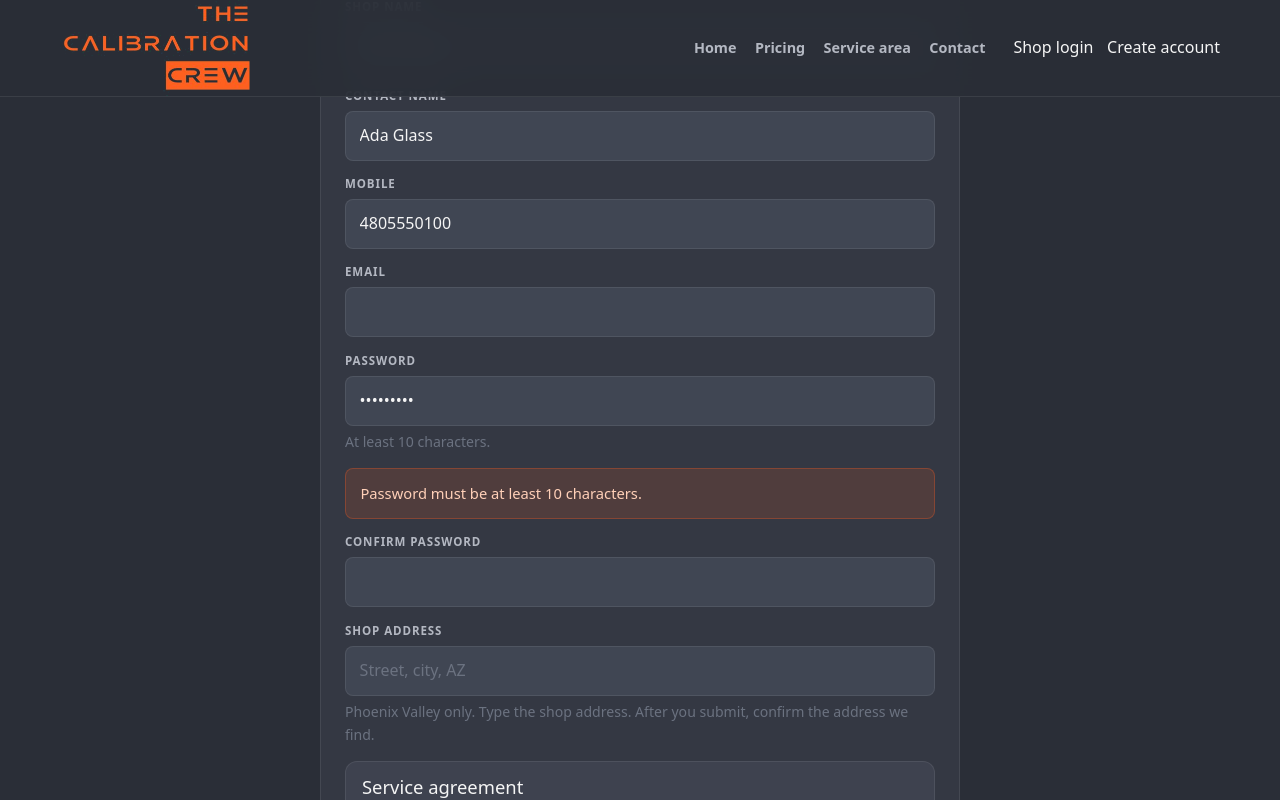
Test: shows the password rule and blocks submit until the password passes
Earlier steps of the test are not shown.
Later steps or results of the test are not shown.
(page scrolled)
Type "ada@jarvis.example" into the field with test id "signup-email" at (640, 312), box [345,287,935,337]
Type "shortpass" into the password field with test id "signup-confirm" at (640, 582), box [345,558,935,608]
Type "100 W Guadalupe Rd, Gilbert, AZ" into the field with test id "signup-address" at (640, 671), box [345,646,935,696]
(page scrolled)
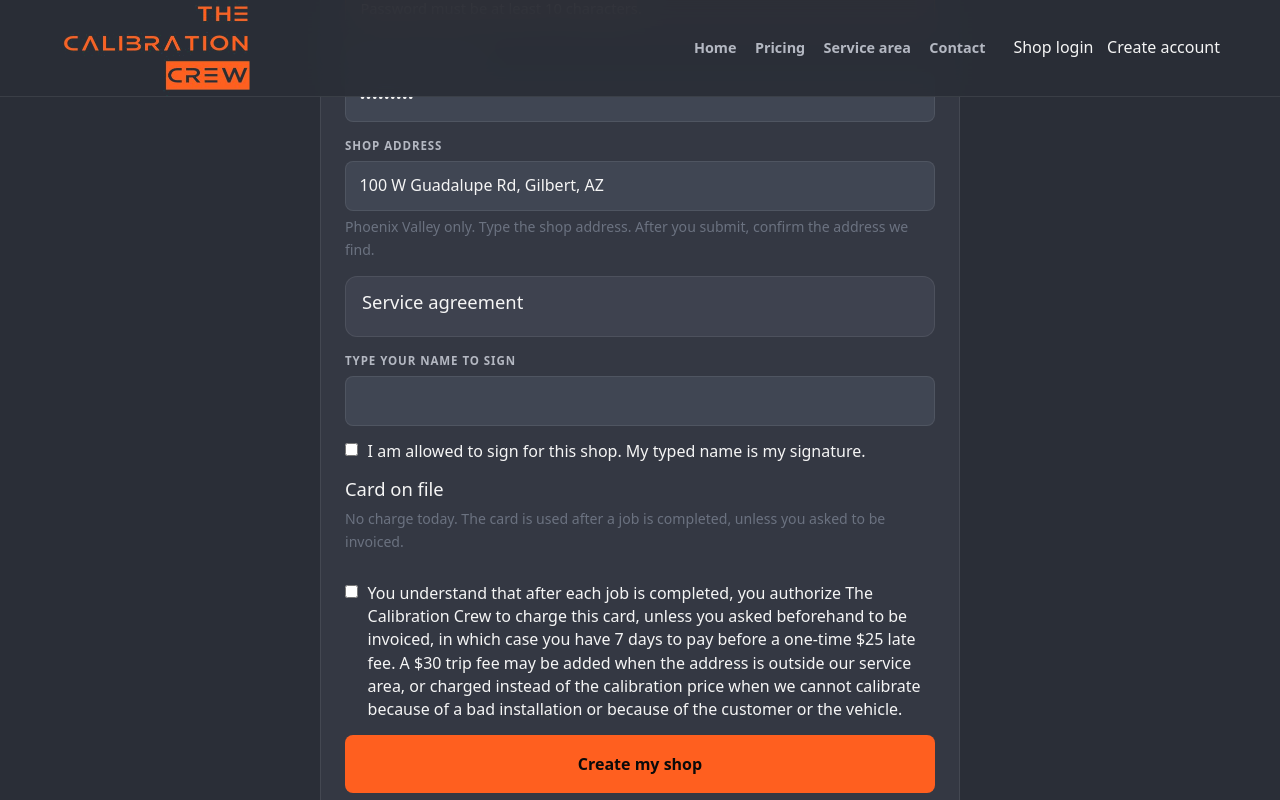
Type "Ada Glass" into the field with test id "signup-signature" at (640, 401), box [345,376,935,426]
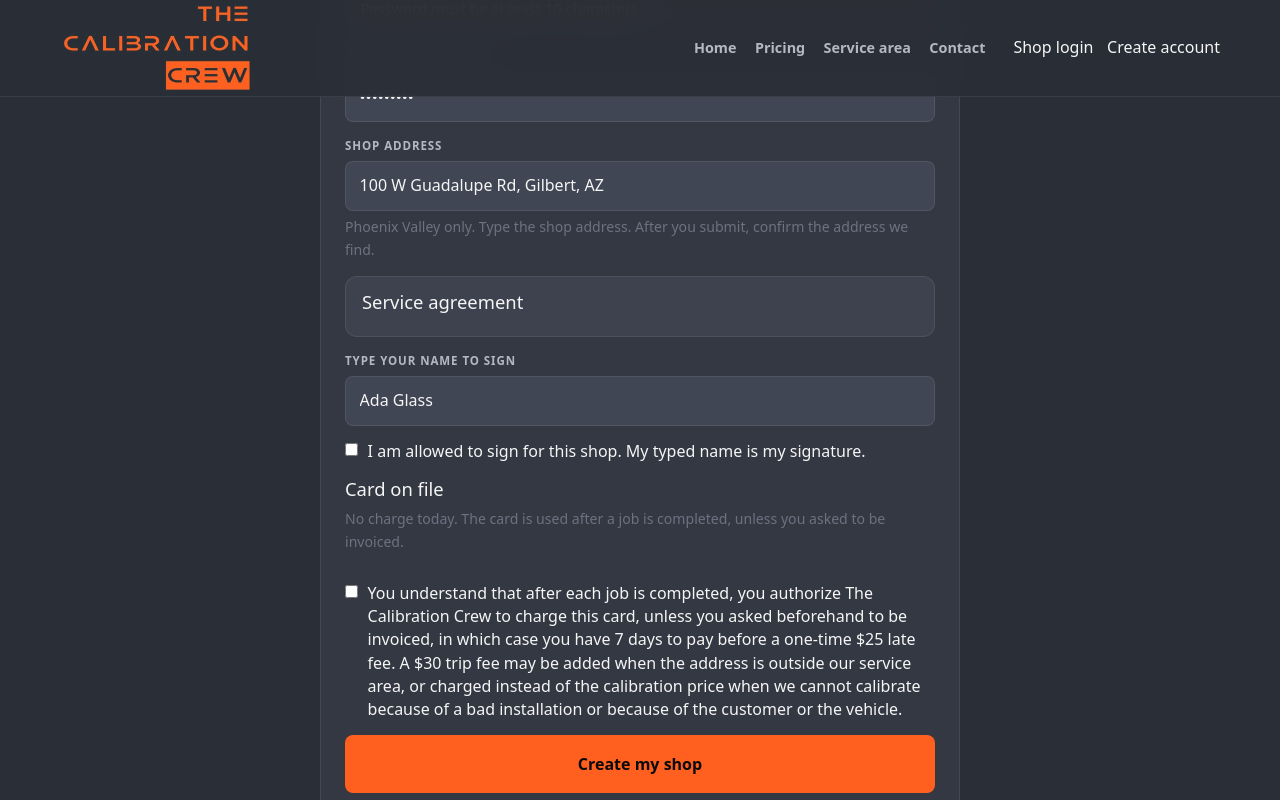
Click the checkbox with test id "signup-agree" at (352, 450), box [345,443,358,456]
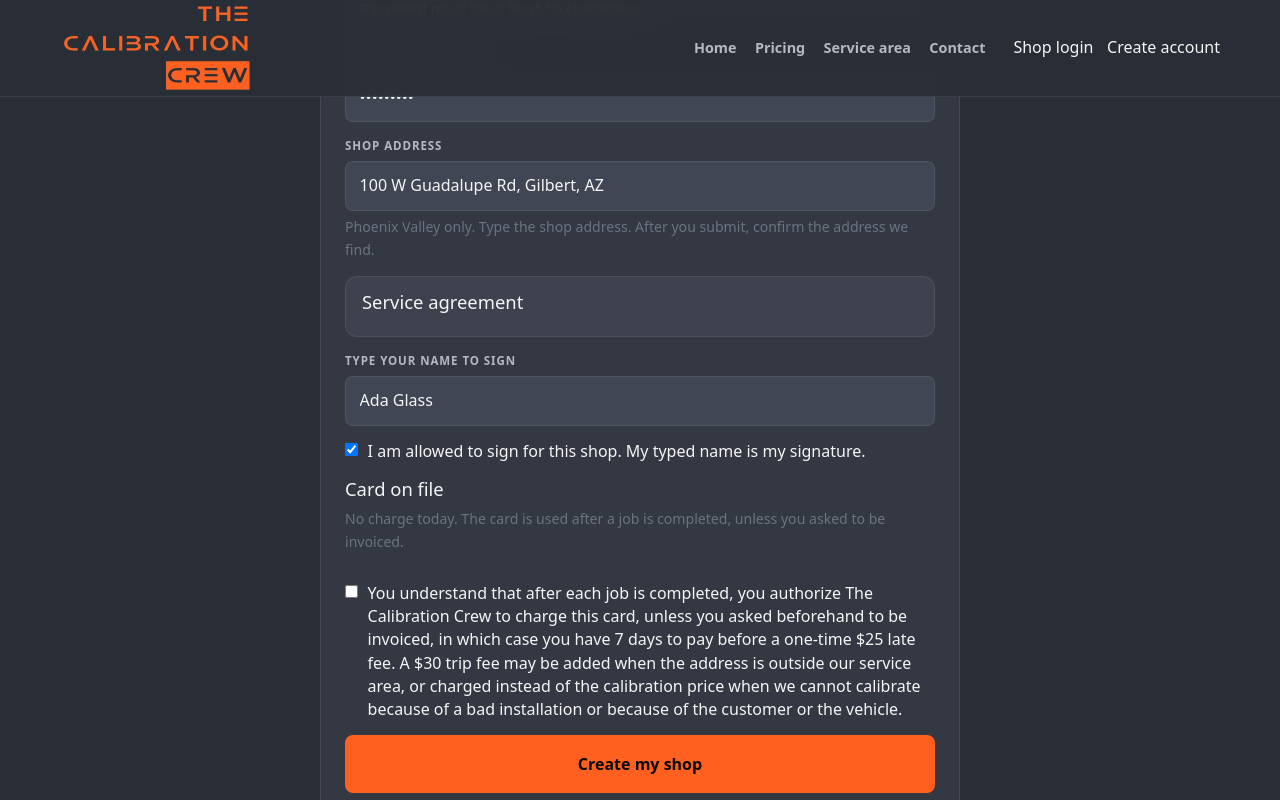
Click the checkbox with test id "signup-charge" at (352, 592), box [345,585,358,598]
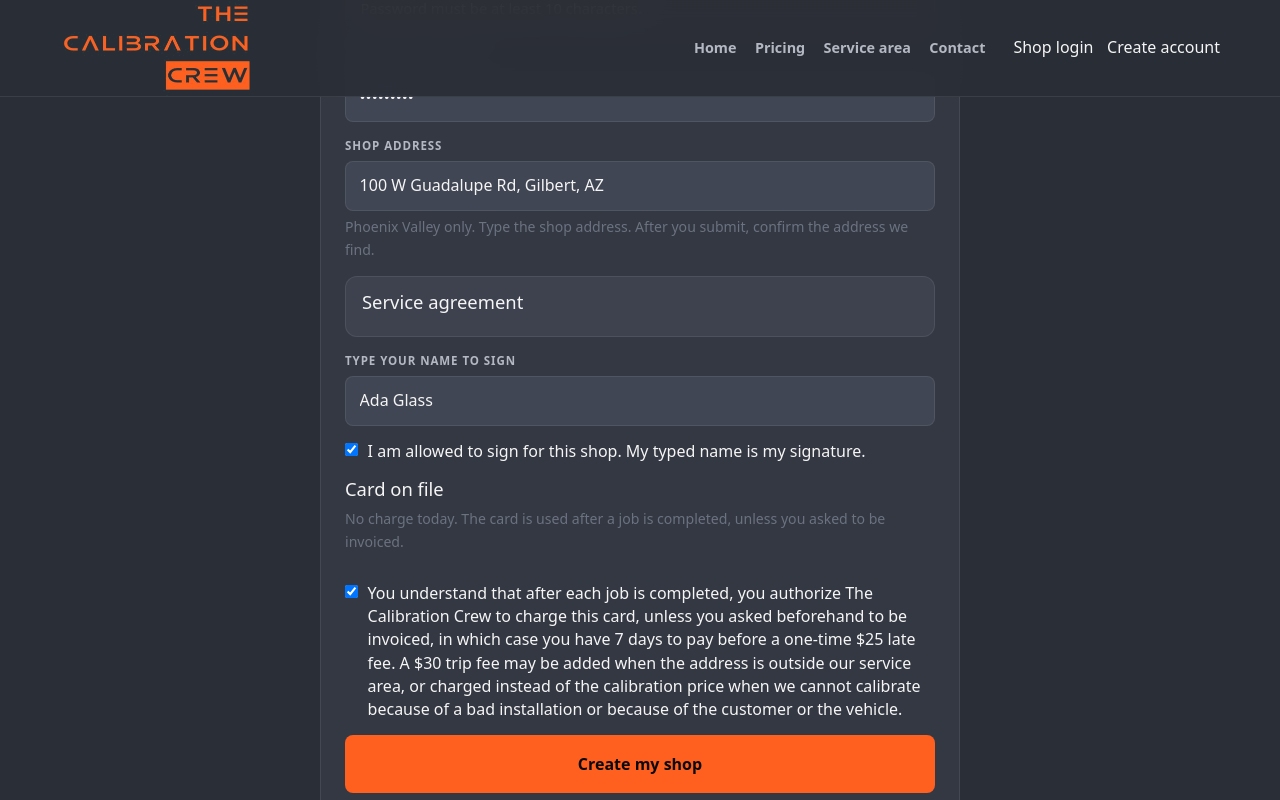
Click the button with test id "signup-submit" at (640, 764), box [345,736,935,794]
(page scrolled)
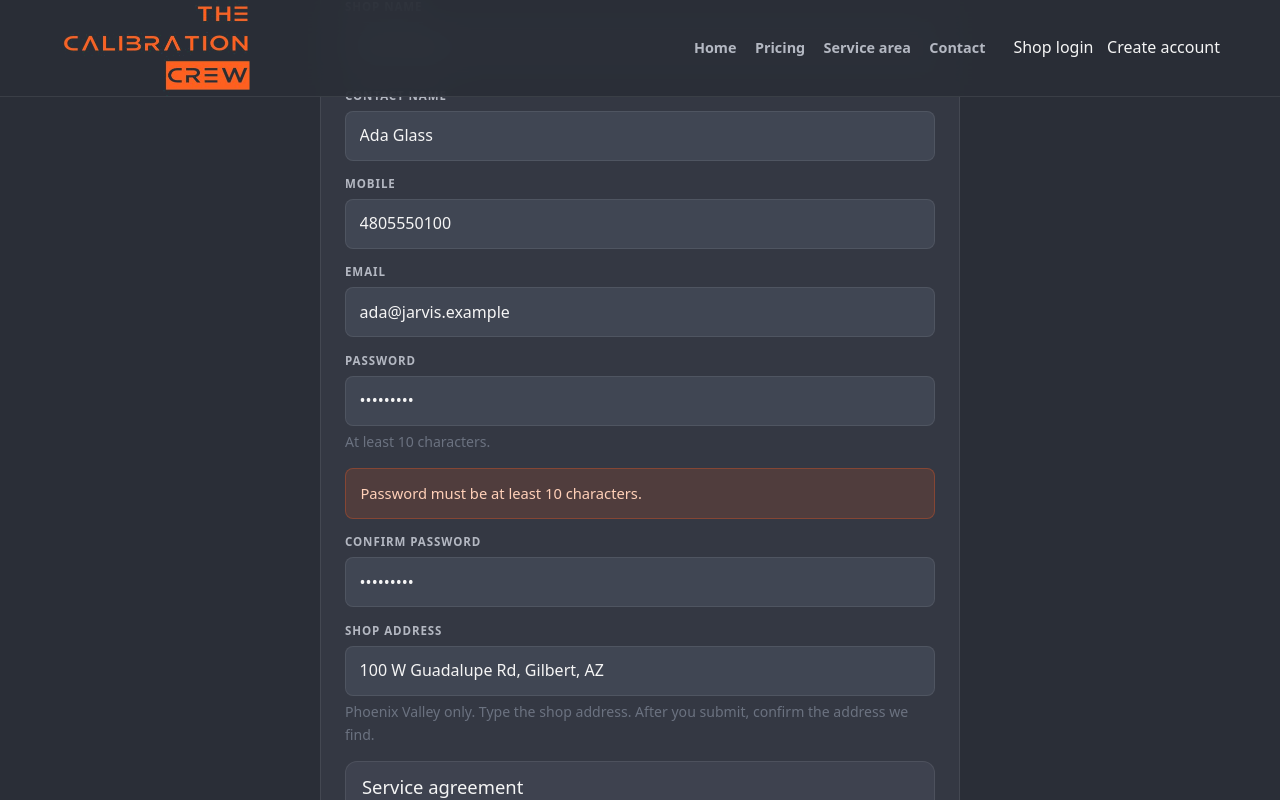
Type "longenough1" into the password field with test id "signup-password" at (640, 401), box [345,376,935,426]
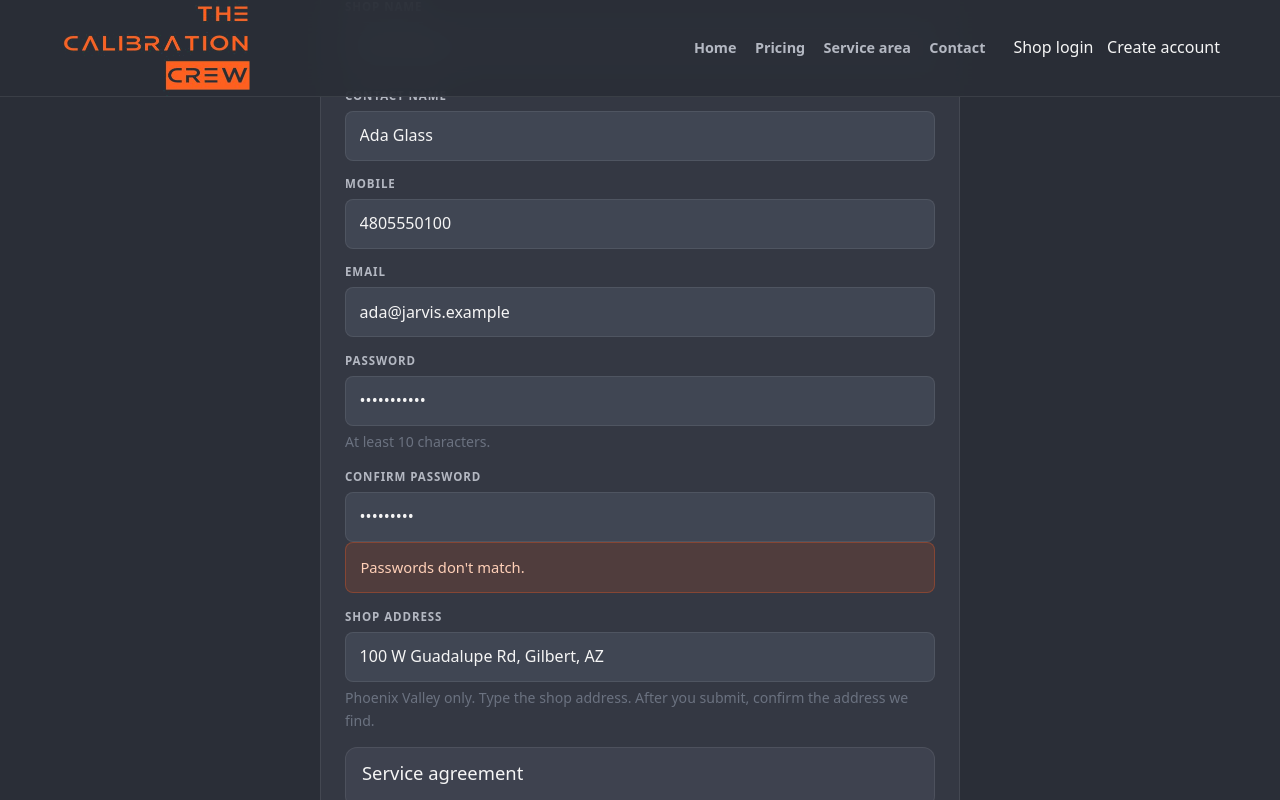
Expected: the text with test id "signup-password-error" is gone
